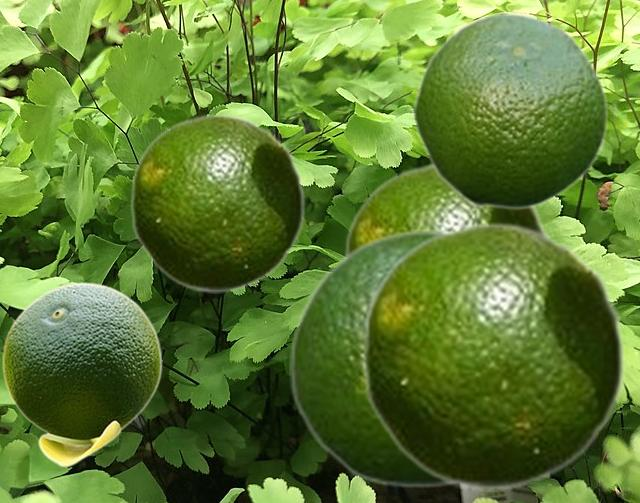calamansi: (360, 221, 626, 490), (289, 229, 449, 488), (411, 10, 608, 209), (129, 113, 305, 292), (2, 282, 161, 466), (342, 161, 552, 253)
